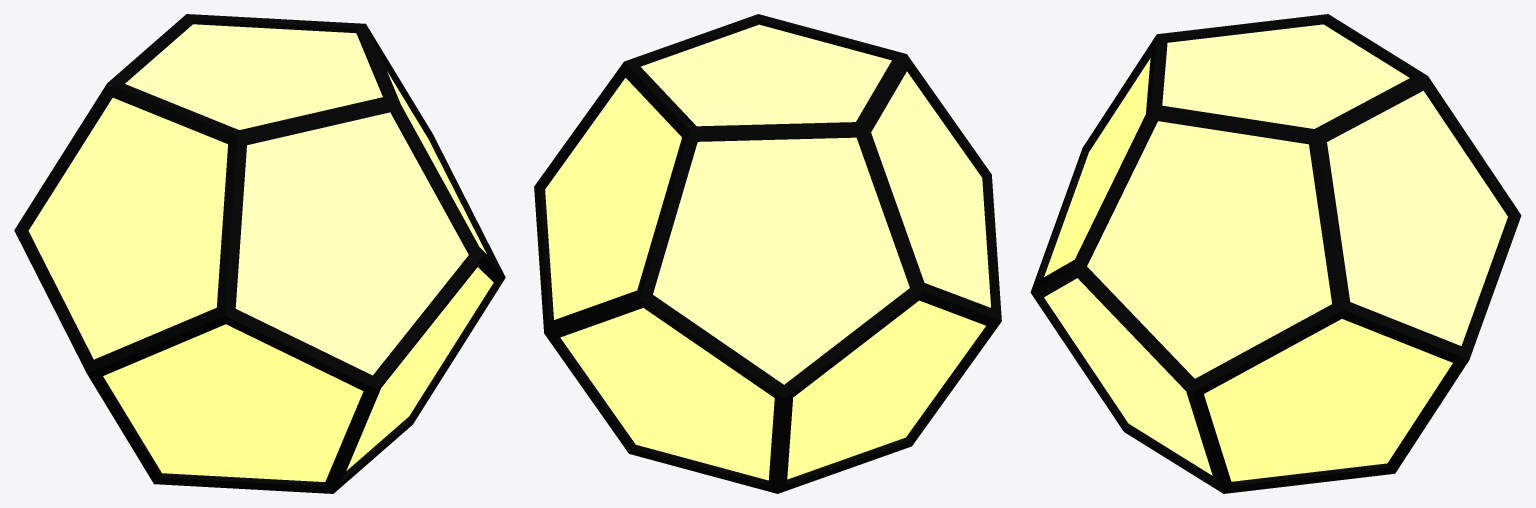
The model's file is SFI0210004.fbx.
The picture shows the model from 3 angles, left to right: view 1: azimuth 30°, elevation 25°; view 2: azimuth 150°, elevation 25°; view 3: azimuth 270°, elevation 25°; orthographic projection. The views are drawn at different scales.
Parts seen in each view (by area): view 1: smSFI0210004; view 2: smSFI0210004; view 3: smSFI0210004.
Boxes of the visible parts, x1,y1,x2,y2 form: smSFI0210004: (14, 14, 505, 493); smSFI0210004: (534, 14, 1001, 493); smSFI0210004: (1030, 14, 1521, 493).
Size of the model in its own units: 134 by 113 by 139.
